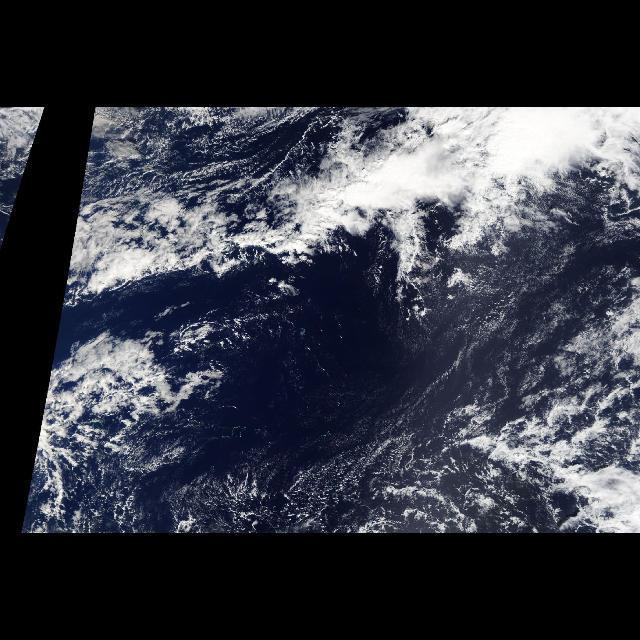Sugar: (117, 435, 415, 529), (428, 286, 558, 388)
